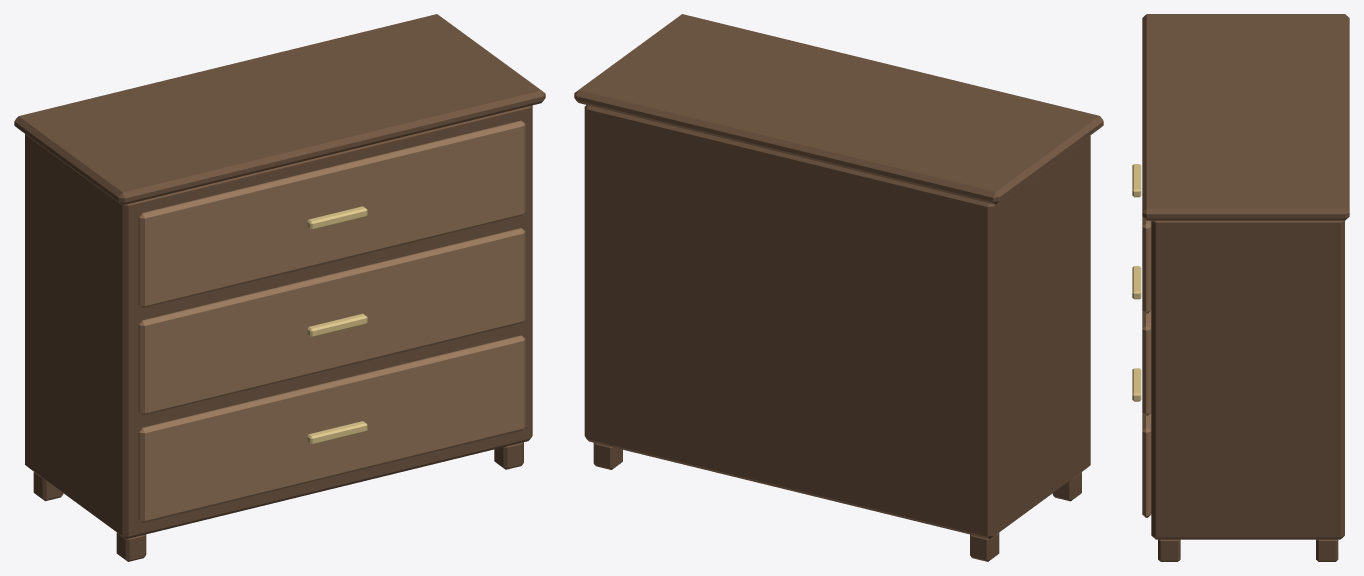
Rendered from dresser.fbx.
3 renders of one model, left to right at view 1: azimuth 30°, elevation 25°; view 2: azimuth 150°, elevation 25°; view 3: azimuth 270°, elevation 25°, orthographic. The views are drawn at different scales.
Parts seen in each view (by area): view 1: Body, Drawer_0, Drawer_2, Drawer_1; view 2: Body; view 3: Body, Drawer_1, Drawer_0, Drawer_2.
Boxes of the visible parts, <box> form: Body: <box>14,14,545,561</box>; Drawer_0: <box>138,335,525,522</box>; Drawer_2: <box>138,120,525,307</box>; Drawer_1: <box>138,228,525,415</box>; Body: <box>574,14,1103,561</box>; Body: <box>1142,14,1349,561</box>; Drawer_1: <box>1132,266,1151,415</box>; Drawer_0: <box>1132,368,1151,517</box>; Drawer_2: <box>1132,164,1151,313</box>.
Size of the model in its own units: 1.04 by 0.88 by 0.482.
